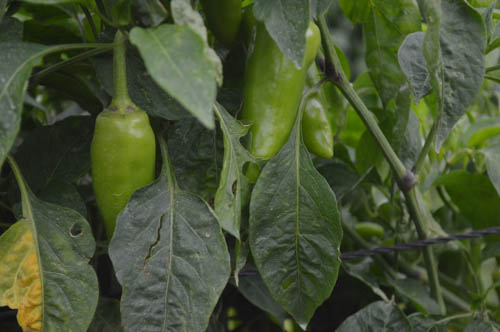ChiliPepper: (247, 25, 317, 173), (94, 112, 155, 261), (307, 102, 336, 163)
